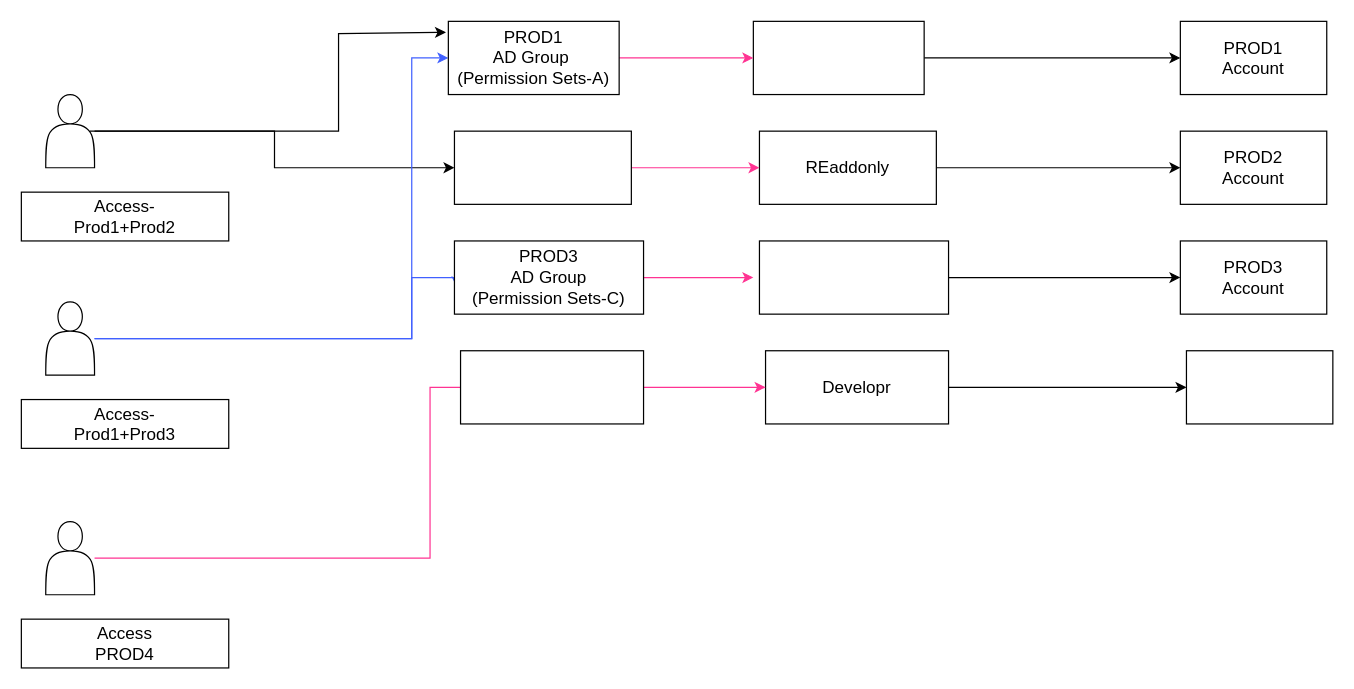
Some shapes in this 1354 by 689 pixel diagram are drawn without their labels. The centre of each missing label's shape, as x and y in pixels:
Admin: the point at 838,57
Audit: the point at 853,277
PROD2 AD Group: the point at 542,167
PROD4 Account: the point at 1259,387
PROD4 AD Group (Permission Sets-D): the point at 551,387
